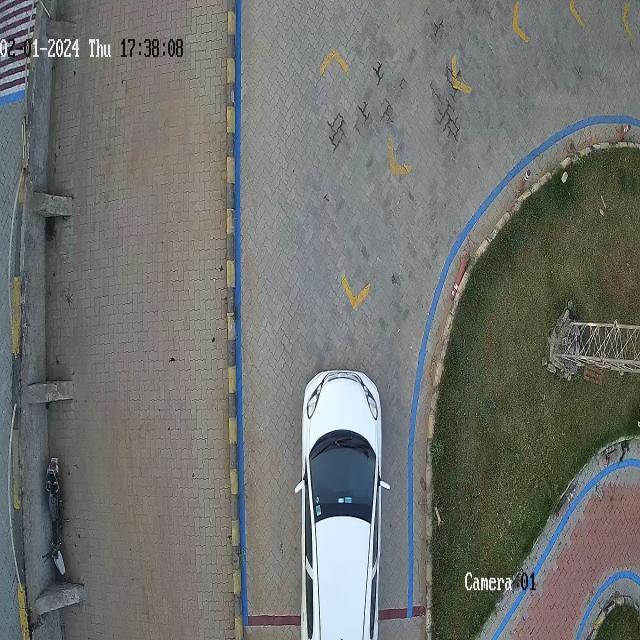car: (295, 373, 389, 640)
